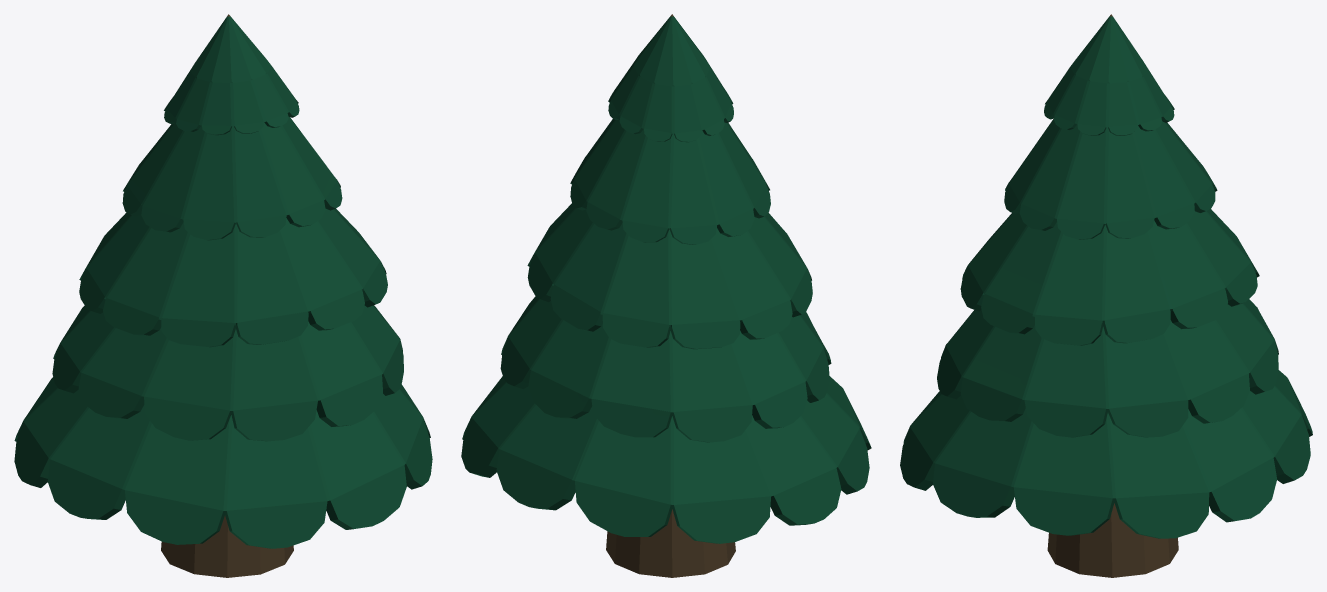
Rendered from Pino2.fbx.
3 renders of one model, left to right at view 1: azimuth 30°, elevation 25°; view 2: azimuth 150°, elevation 25°; view 3: azimuth 270°, elevation 25°, orthographic.
Parts seen in each view (by area): view 1: PinoVariation2Exportable; view 2: PinoVariation2Exportable; view 3: PinoVariation2Exportable.
Part boxes in pixels (<box>): PinoVariation2Exportable: <box>14,14,432,577</box>; PinoVariation2Exportable: <box>461,14,871,577</box>; PinoVariation2Exportable: <box>900,14,1312,577</box>.
Bounding box in the file's own units: 1477 × 2112 × 1473.
1 material, 1 textured.
